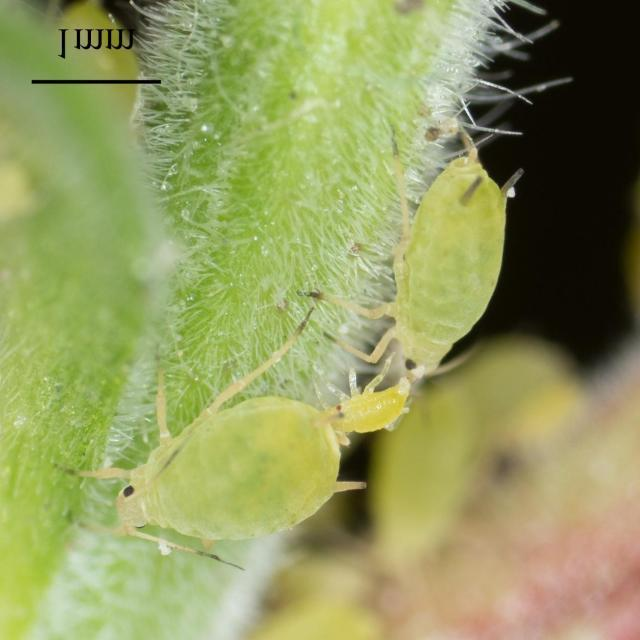aphid: (59, 310, 366, 562), (348, 94, 561, 394)
